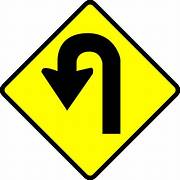back: (1, 1, 180, 180)
